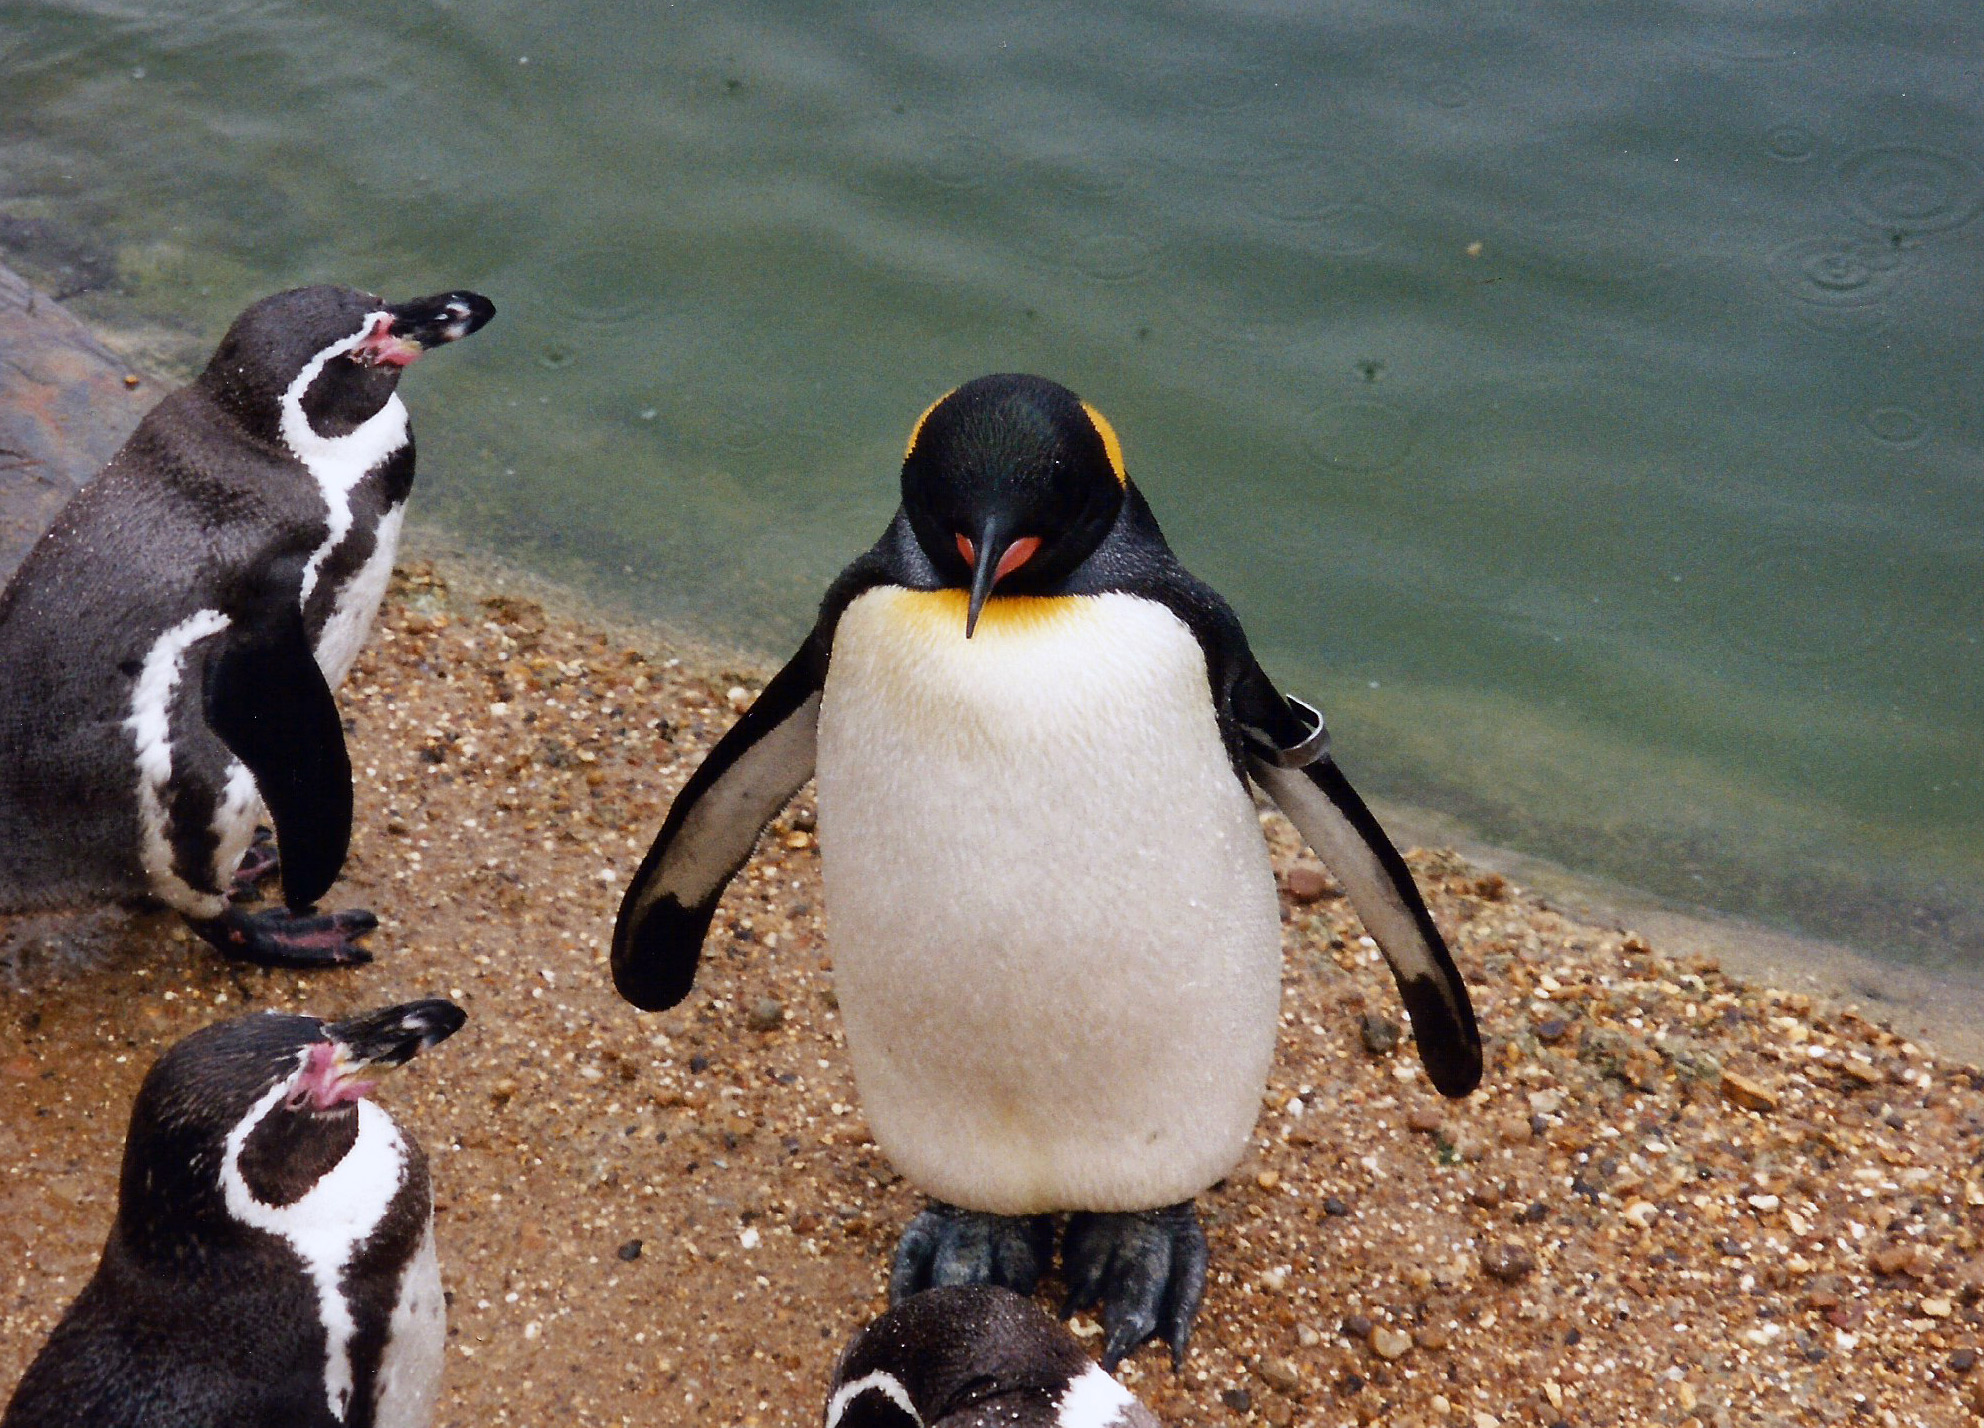penguin: (602, 373, 1499, 1323), (2, 266, 518, 991), (3, 1014, 487, 1428)
